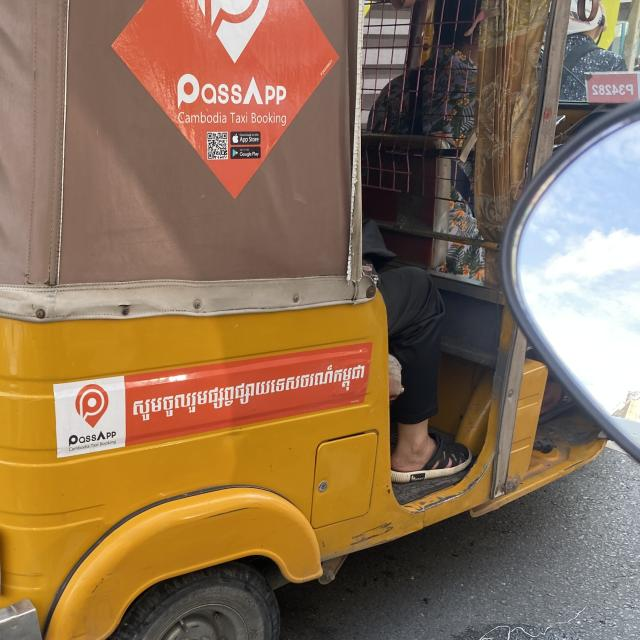Yolov11kh: (132, 358, 367, 429)
